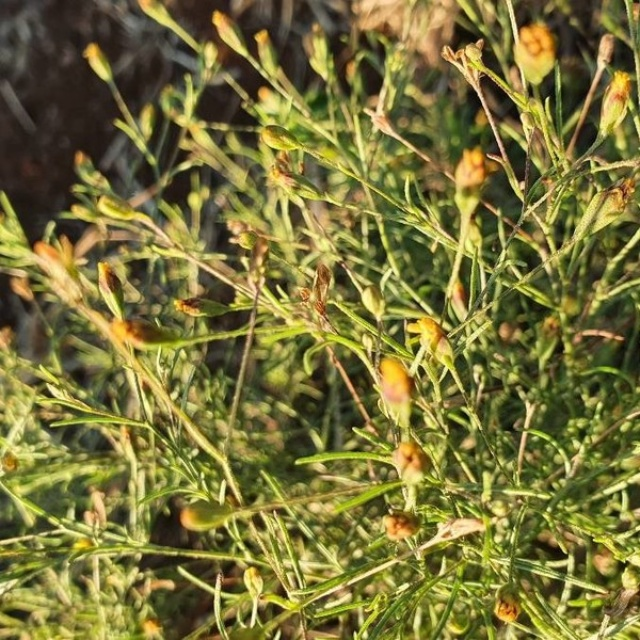obstacle: (85, 147, 624, 587)
